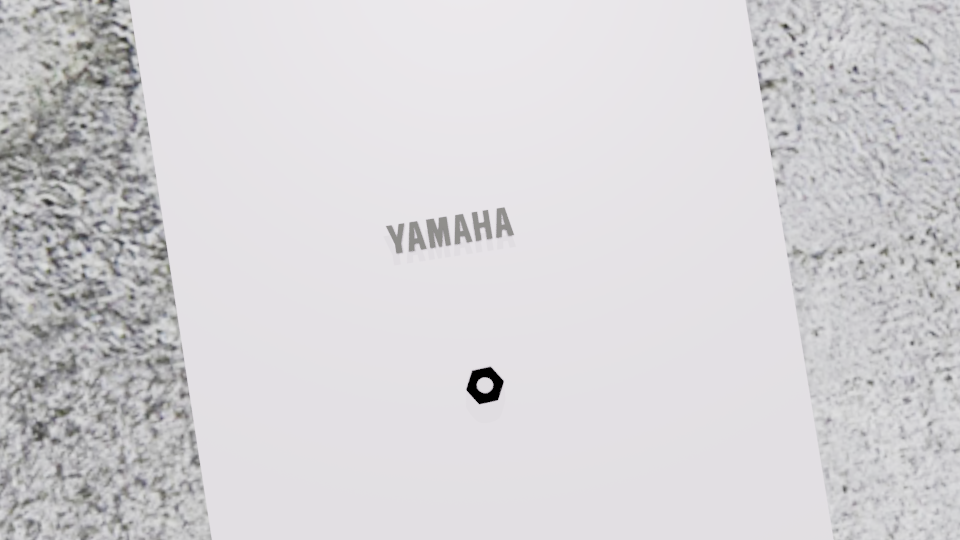yamaha_letters: (385, 206, 514, 254)
